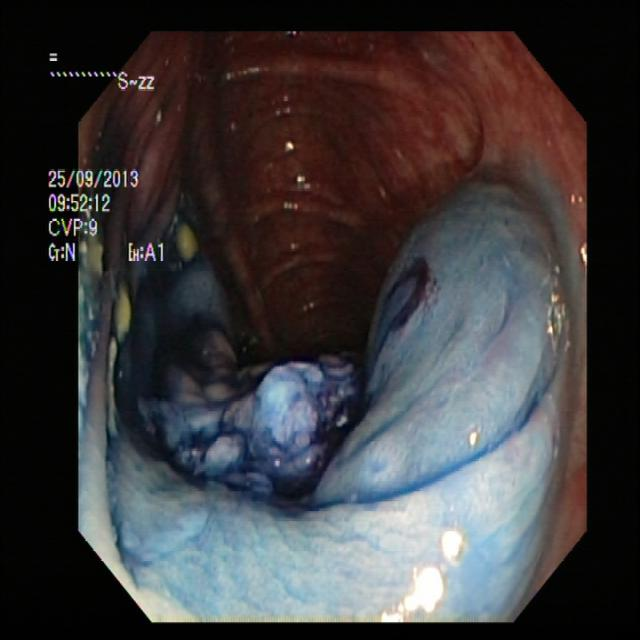dyed-lifted-polyps: (79, 168, 455, 531)
